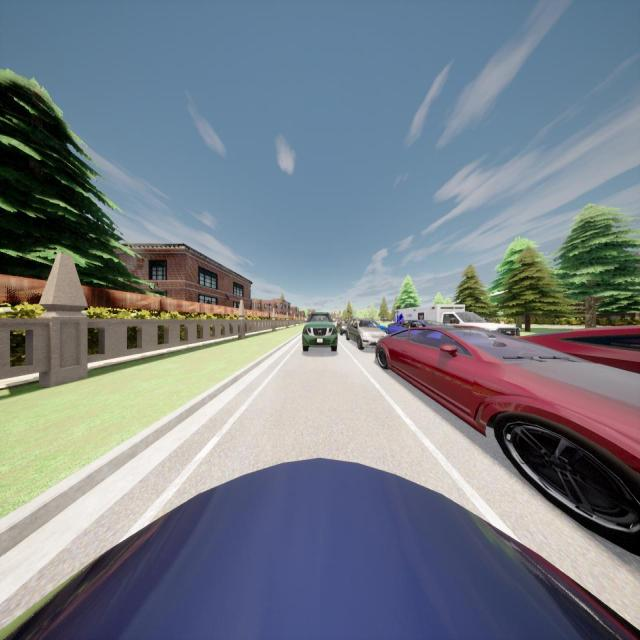Vehicle: (0, 456, 640, 640), (375, 326, 639, 556), (520, 326, 640, 371), (395, 304, 517, 338), (302, 312, 338, 351), (347, 320, 386, 349), (387, 319, 446, 337), (336, 320, 348, 336)
